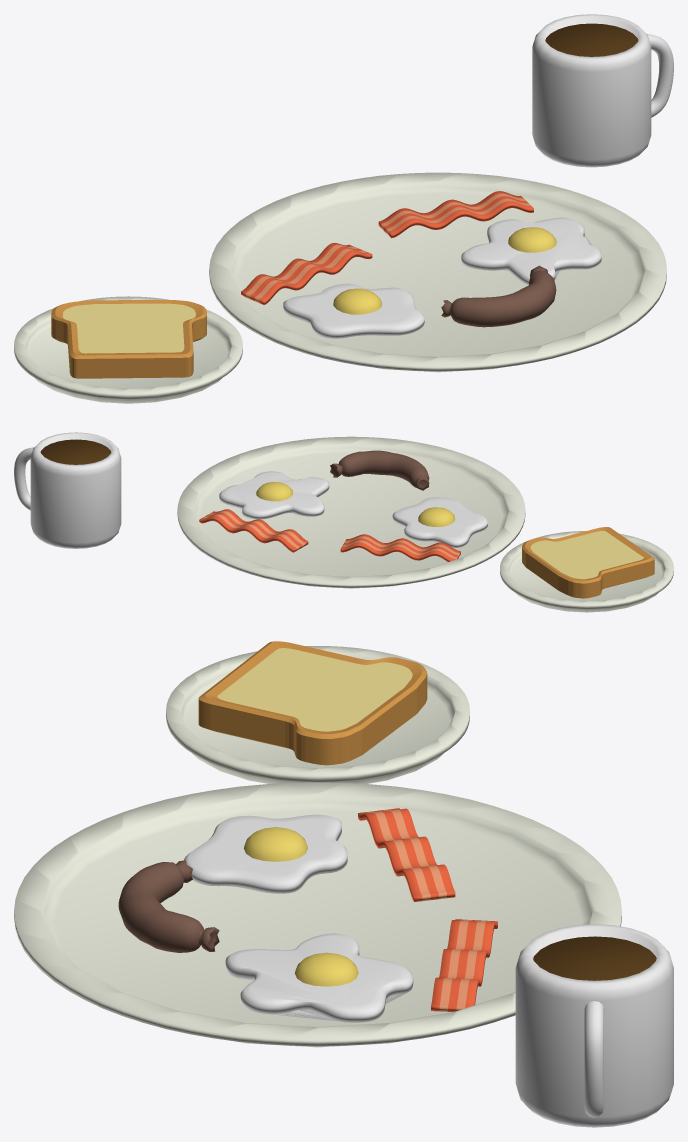
Rendered from brekkie.fbx.
3 renders of one model, top to bottom at view 1: azimuth 30°, elevation 25°; view 2: azimuth 150°, elevation 25°; view 3: azimuth 270°, elevation 25°, orthographic. The views are drawn at different scales.
Parts seen in each view (by area): view 1: coffee; view 2: coffee; view 3: coffee.
Boxes of the visible parts, box(x1,y1,x2,y2) form: coffee: box(14, 14, 673, 403); coffee: box(14, 432, 673, 612); coffee: box(14, 641, 673, 1127).
Bounding box in the file's own units: 290 × 40 × 167.
